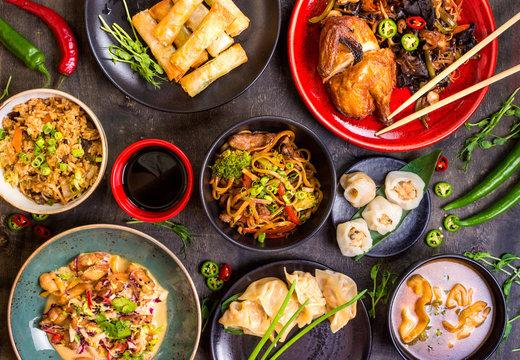Braised Crucian Carp: (288, 0, 492, 152), (8, 222, 199, 358), (85, 0, 278, 115), (199, 115, 333, 252), (207, 258, 371, 360), (387, 252, 510, 360), (0, 88, 105, 212), (331, 151, 442, 257)
